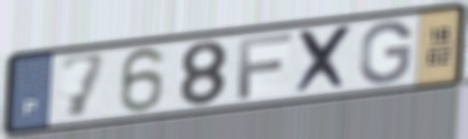6: (116, 44, 169, 115)
7: (58, 50, 108, 123)
8: (179, 39, 230, 108)
F: (236, 30, 295, 102)
G: (357, 19, 415, 86)
X: (293, 22, 357, 97)
